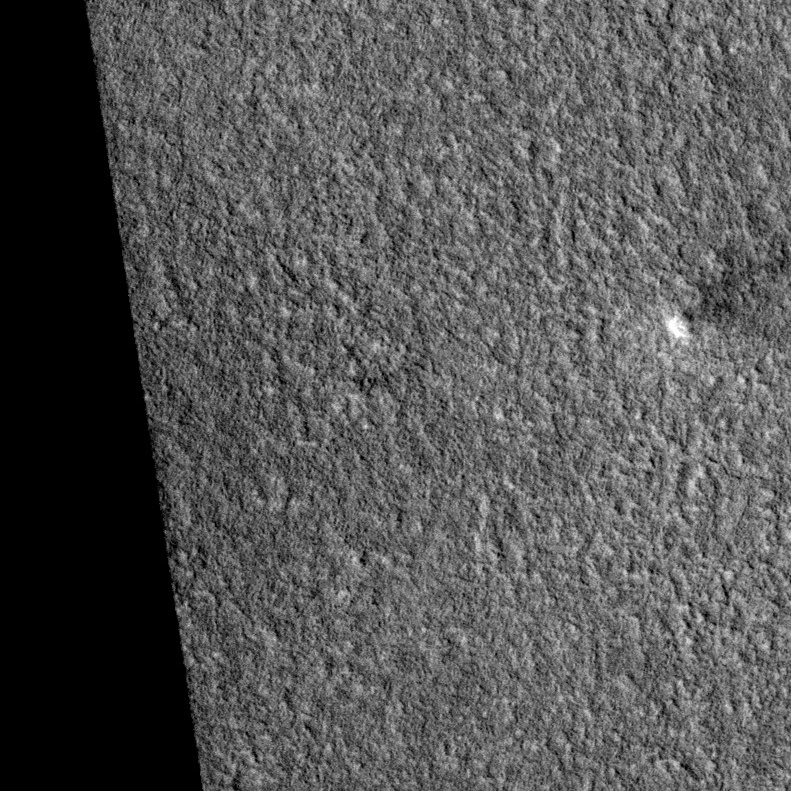dust_devil: (661, 267, 775, 348)
